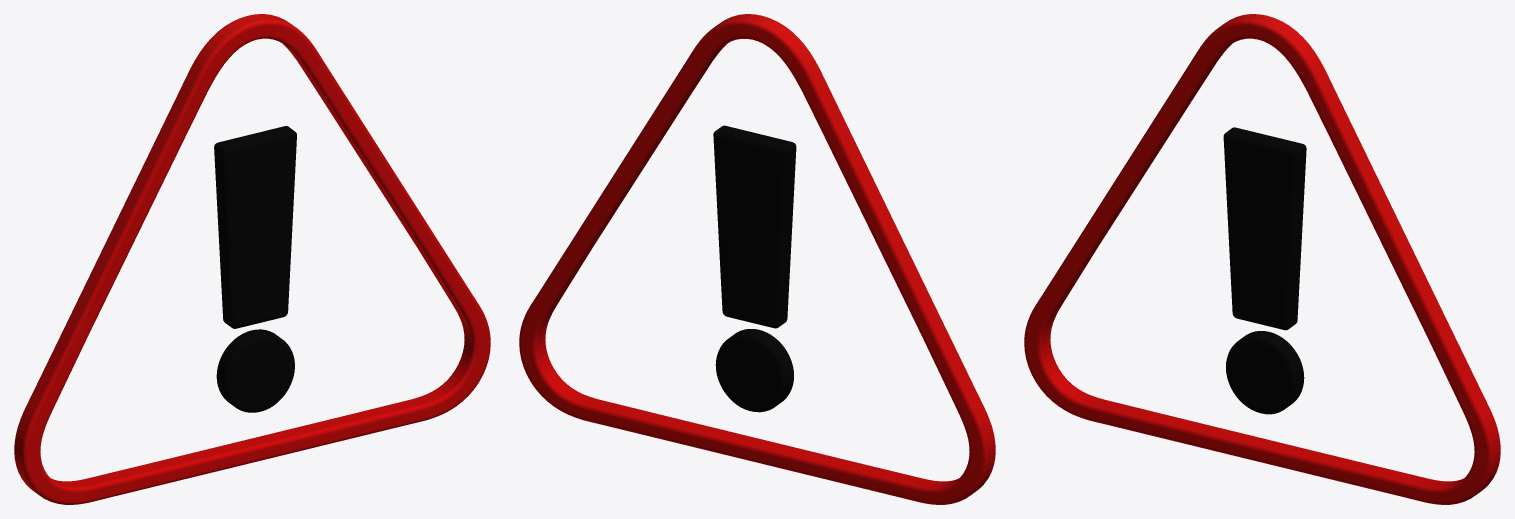
Rendered from Advertencia.glb.
3 views of the same model, side by side, from view 1: azimuth 30°, elevation 25°; view 2: azimuth 150°, elevation 25°; view 3: azimuth 330°, elevation 25° (orthographic).
Size of the model in its own units: 0.4903 by 0.4404 by 0.0208.
1 material, 1 textured.
